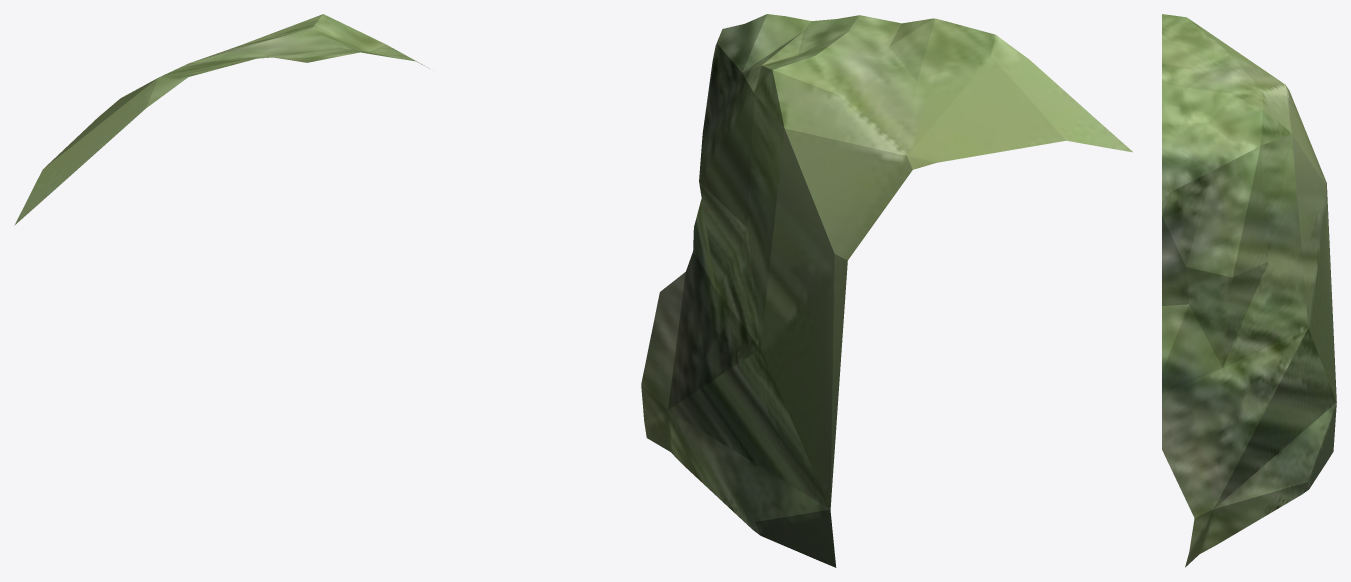
3 renders of one model, left to right at view 1: azimuth 30°, elevation 25°; view 2: azimuth 150°, elevation 25°; view 3: azimuth 270°, elevation 25°, orthographic. The views are drawn at different scales.
Bounding box in the file's own units: 11.48 × 11.04 × 4.23.
Materials: 1 (1 with a texture image).
